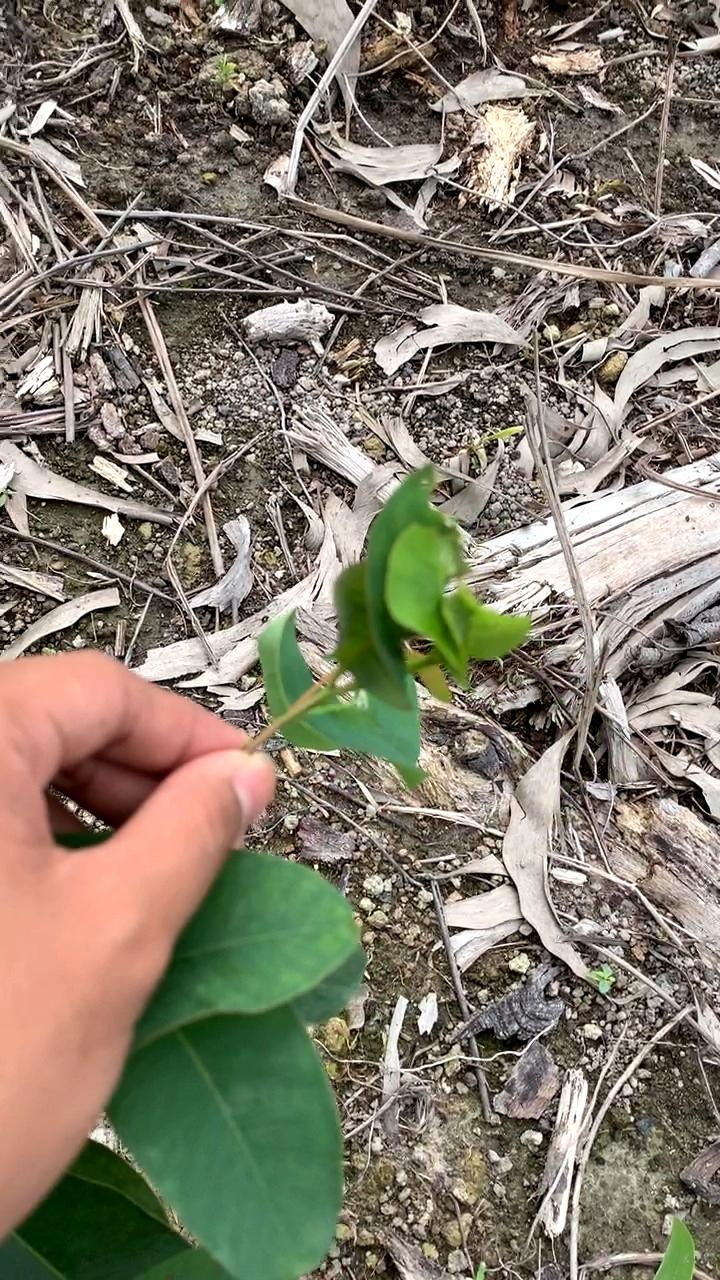Leaf Roller - Leaf: (348, 438, 535, 738)
